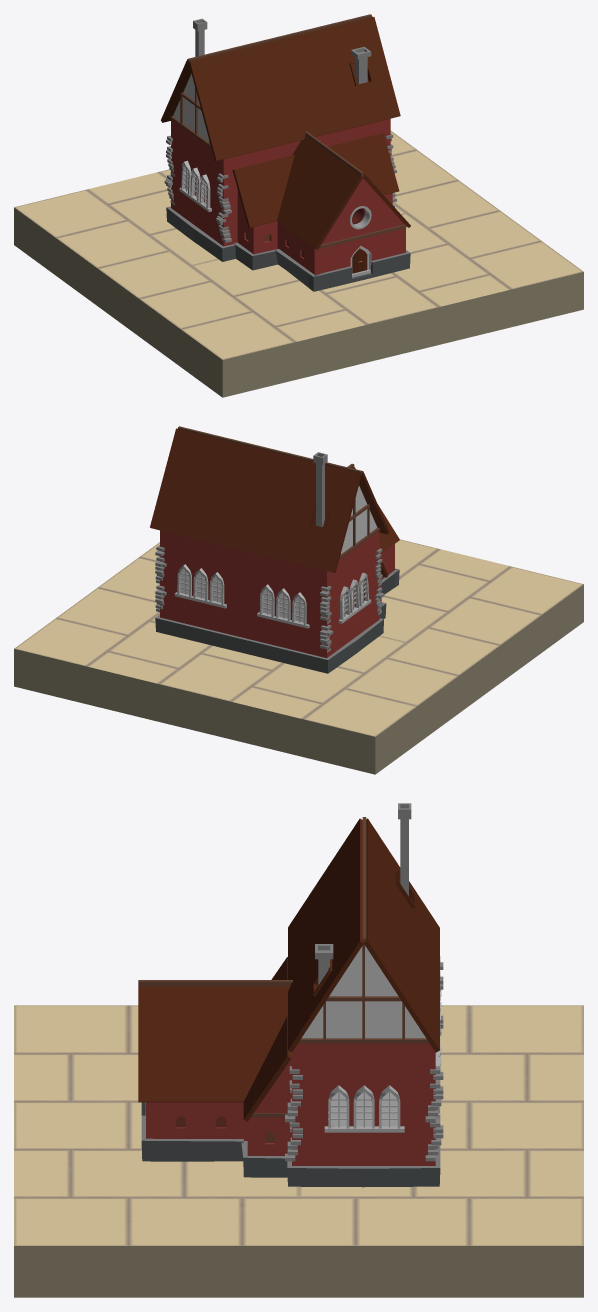
File: tile0021.gltf
3 renders of one model, top to bottom at view 1: azimuth 30°, elevation 25°; view 2: azimuth 150°, elevation 25°; view 3: azimuth 270°, elevation 25°, orthographic. The views are drawn at different scales.
Parts seen in each view (by area): view 1: Cube.074, Cube.004, Cube.001, Cube.003, Cube.002, Cube.006, Cube, Cube.007, Cube.033, Plane.011, Cube.008, Cube.029; view 2: Cube.074, Cube.008, Cube.001, Cube.006, Cube.030, Plane.001, Plane.002, Plane.011, Cube.033, Cube.004; view 3: Cube.074, Cube.001, Cube.003, Cube.008, Cube.004, Cube.006, Cube, Cube.002, Cube.012, Cube.073, Plane.010, Cube.030 (+1 smaller).
Part boxes in pixels (x1,y1,x2,y2): Cube.074: (14, 130, 583, 397); Cube.004: (188, 17, 400, 161); Cube.001: (171, 73, 392, 254); Cube.003: (277, 135, 410, 250); Cube.002: (232, 133, 399, 228); Cube.006: (166, 204, 410, 291); Cube: (277, 222, 405, 274); Cube.007: (321, 178, 403, 244); Cube.033: (187, 14, 371, 62); Plane.011: (181, 160, 210, 207); Cube.008: (161, 16, 372, 122); Cube.029: (351, 46, 371, 84); Cube.074: (14, 539, 583, 774); Cube.008: (150, 428, 361, 572); Cube.001: (160, 486, 381, 657); Cube.006: (155, 568, 399, 673); Cube.030: (313, 452, 327, 526); Plane.001: (177, 564, 224, 604); Plane.002: (259, 584, 306, 624); Plane.011: (340, 572, 368, 619); Cube.033: (178, 426, 362, 474); Cube.004: (359, 471, 389, 534); Cube.074: (14, 1005, 583, 1297); Cube.001: (247, 946, 435, 1165); Cube.003: (138, 986, 290, 1102); Cube.008: (364, 818, 439, 1052); Cube.004: (288, 818, 363, 1052); Cube.006: (141, 1102, 440, 1187); Cube: (146, 1102, 247, 1140); Cube.002: (243, 957, 291, 1121); Cube.012: (298, 944, 428, 1043); Cube.073: (138, 980, 292, 986); Plane.010: (328, 1085, 400, 1128); Cube.030: (398, 803, 411, 895).
Bounding box in the file's own units: 2 × 1.28 × 2.
Materials: 15 (1 with a texture image).
